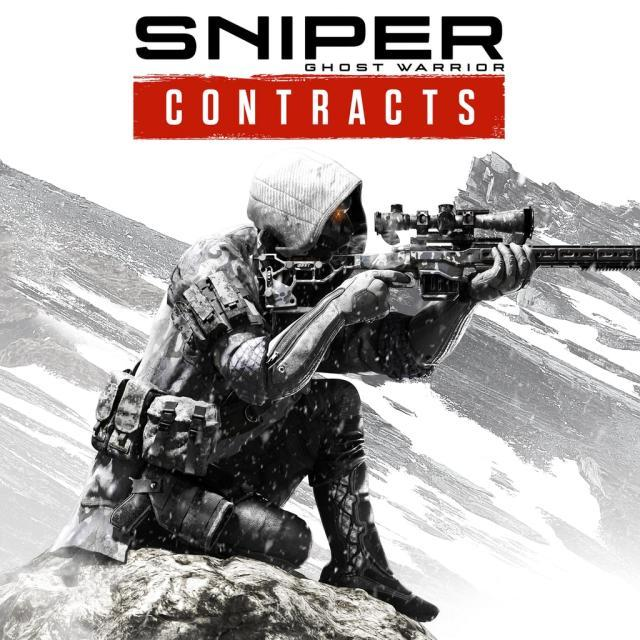scope: (374, 206, 541, 241)
sniper rifle: (249, 202, 640, 316)
